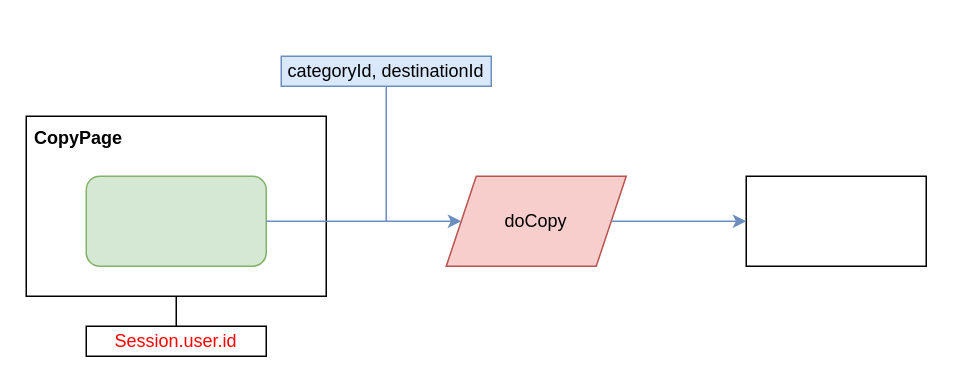
Image size: 953x383. Some labels were removed from this diagram. Here are the shapes that lost their labels. From the top down, the box of each, then its label:
(85, 175, 266, 266): :List [data: category, link: copyHere]
(745, 175, 926, 266): Home
